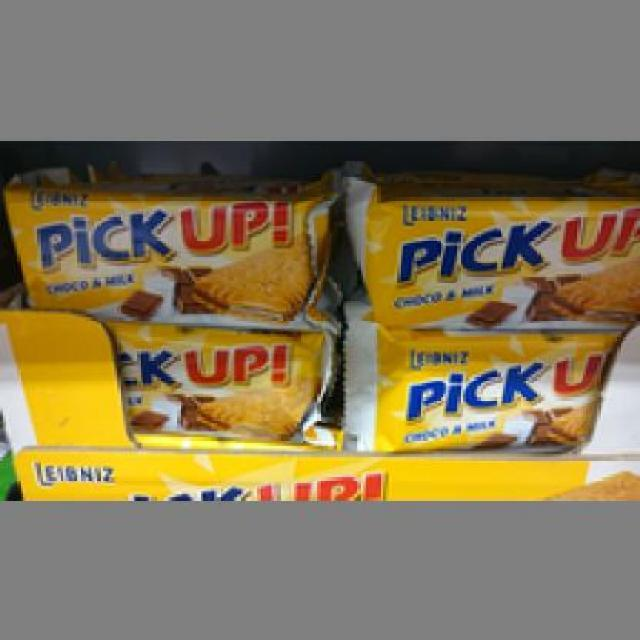Chocolate: (2, 173, 328, 329), (334, 180, 637, 329), (49, 317, 340, 452), (346, 326, 637, 454)
